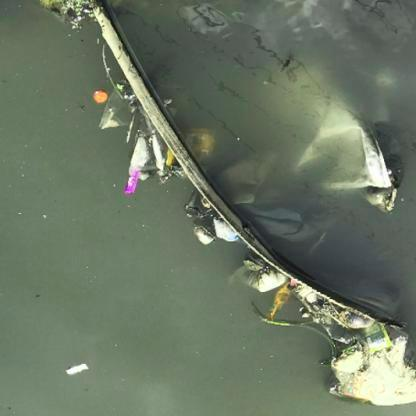Metal: (64, 357, 92, 378)
Plastic: (121, 166, 144, 198)
Trash: (356, 313, 396, 362), (89, 84, 109, 108)
